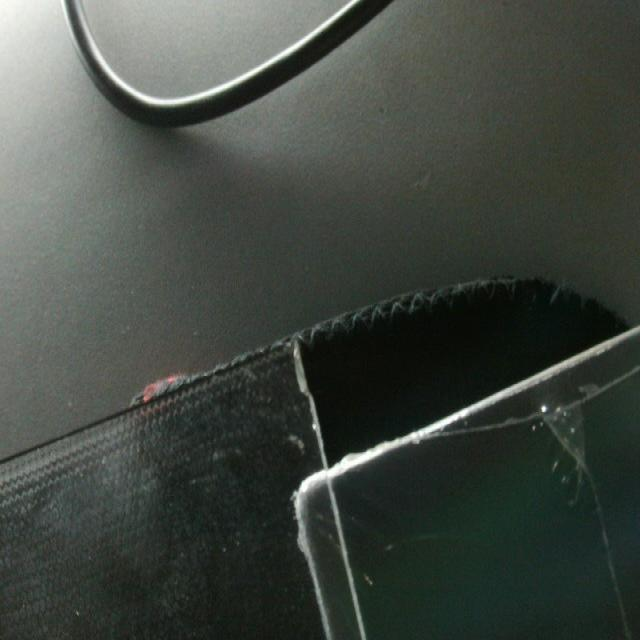edge_chip: (279, 330, 330, 447)
